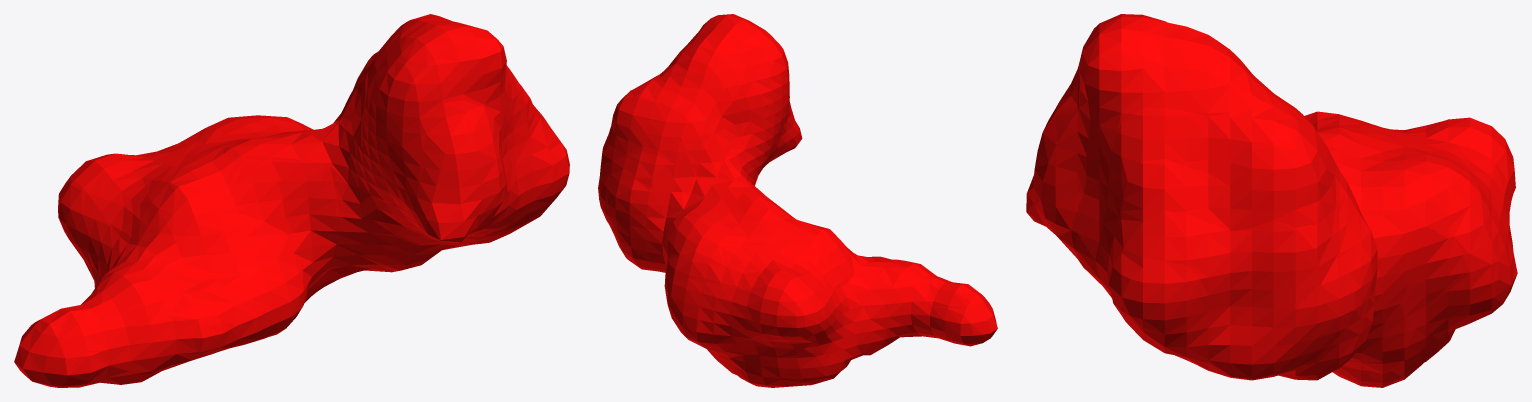
The model's file is rplF_coarse.dae.
The picture shows the model from 3 angles, left to right: view 1: azimuth 30°, elevation 25°; view 2: azimuth 150°, elevation 25°; view 3: azimuth 270°, elevation 25°; orthographic projection. The views are drawn at different scales.
Parts seen in each view (by area): view 1: rplF; view 2: rplF; view 3: rplF.
Part boxes in pixels (x1,y1,x2,y2): rplF: [14, 14, 569, 387]; rplF: [598, 14, 997, 387]; rplF: [1026, 14, 1517, 387].
Size of the model in its own units: 73.3 by 49.11 by 50.37.
